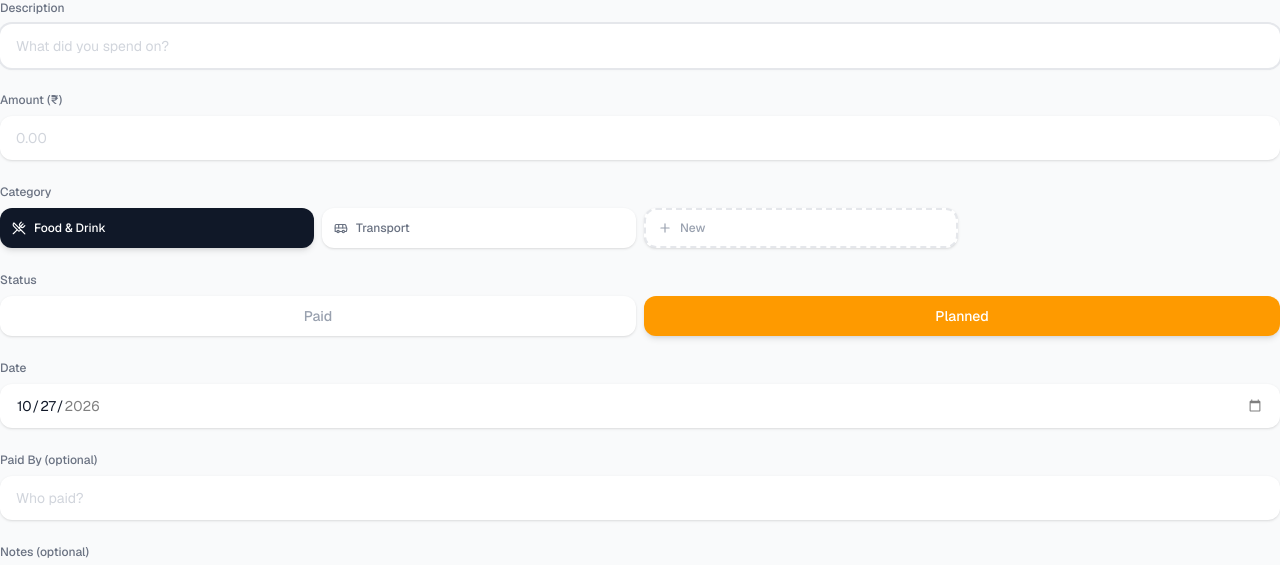
Test: ExpenseForm › shows validation error on blur for invalid amount
The width and height of the screenshot is (1280, 565).
Type "abc" into the field with placeholder "0.00" at {"x": 640, "y": 138}, box [0, 116, 1279, 160]
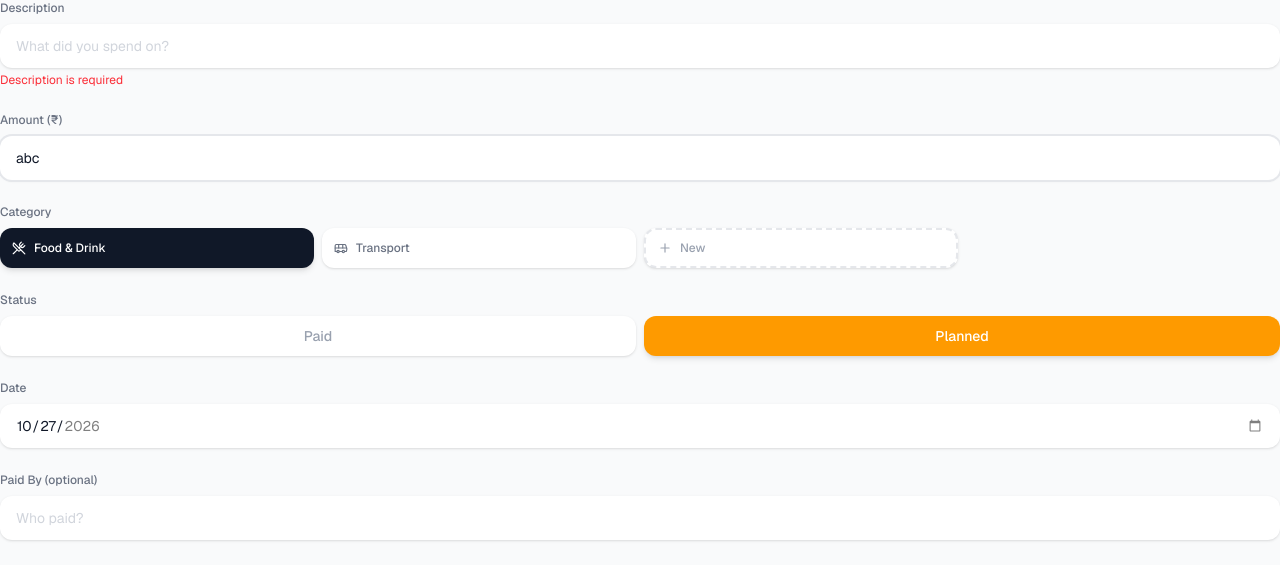
Press Tab
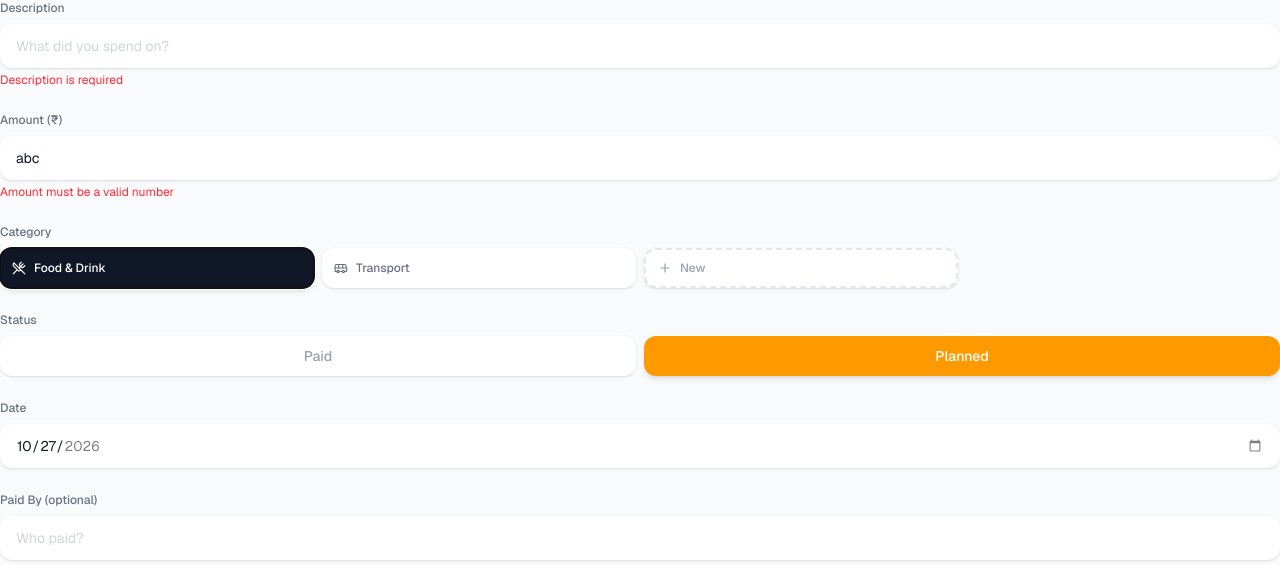
Now the text "Amount must be a valid number" is shown, box [0, 184, 174, 200]
